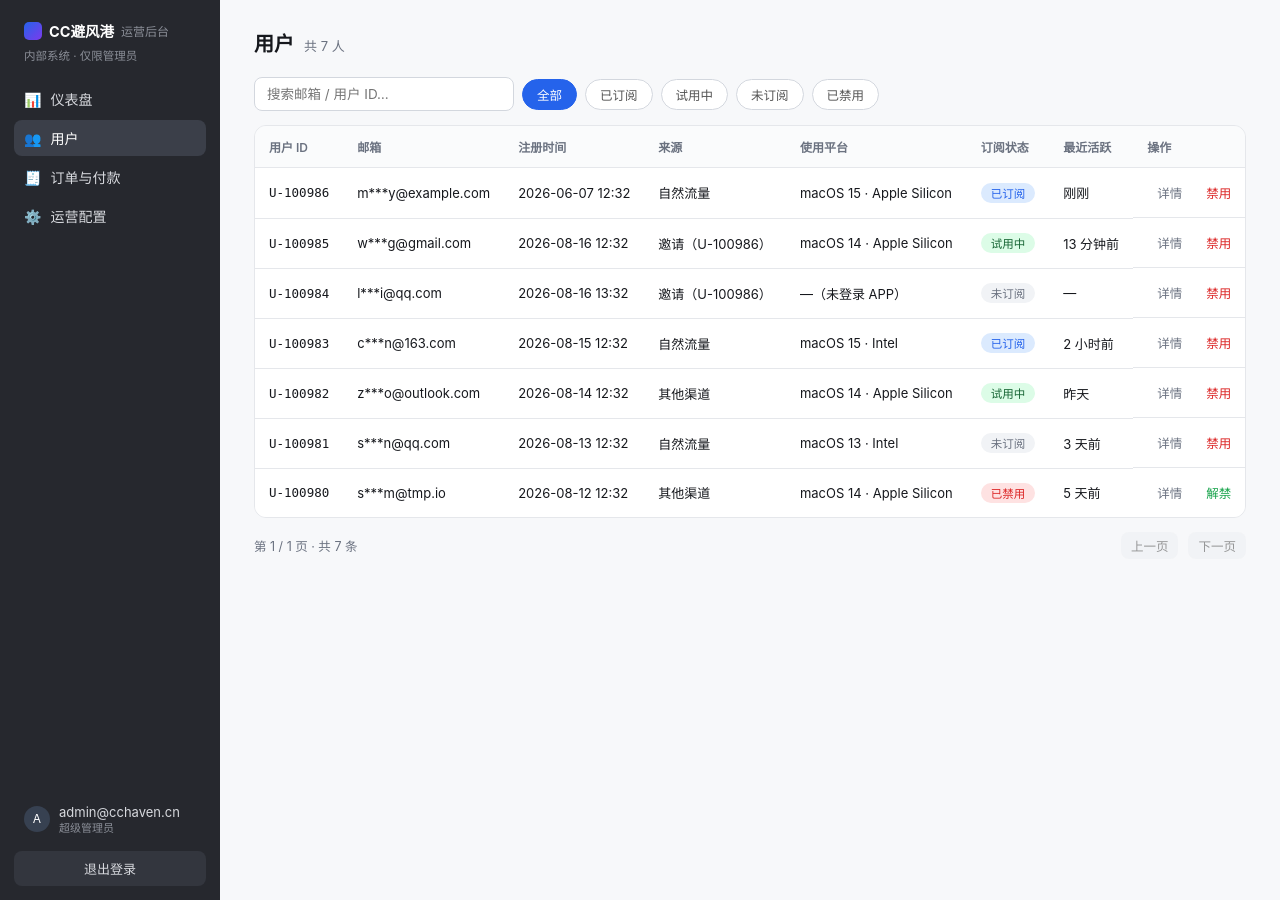
Test: 用户页 › 禁用需要二次确认，并明确「立即被登出」的后果
Expected: the cell "U-100986" is shown, [255,168,343,218]
Click the button "禁用" in the row of "m***y@example.com" at coordinates (1219, 192), box [1196,179,1241,206]
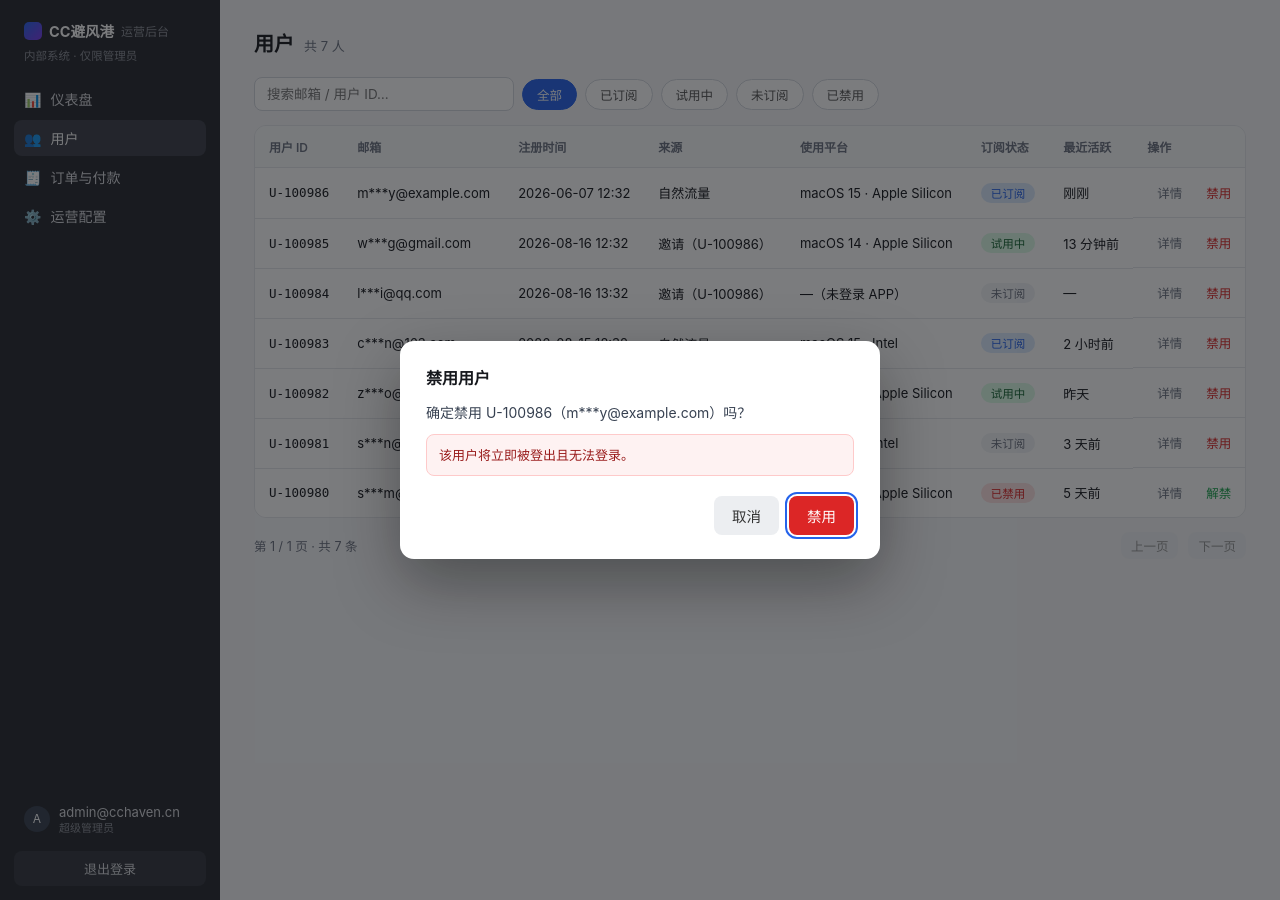
Expected: the text "确定禁用 U-100986（m***y@example.com）吗？ 该用户将立即被登出且无法登录。" is shown, [426,400,854,476]
Expected: the text "该用户将立即被登出且无法登录。" is shown, [426,434,854,476]
Click the button "禁用" at coordinates (822, 516), box [789,496,854,535]
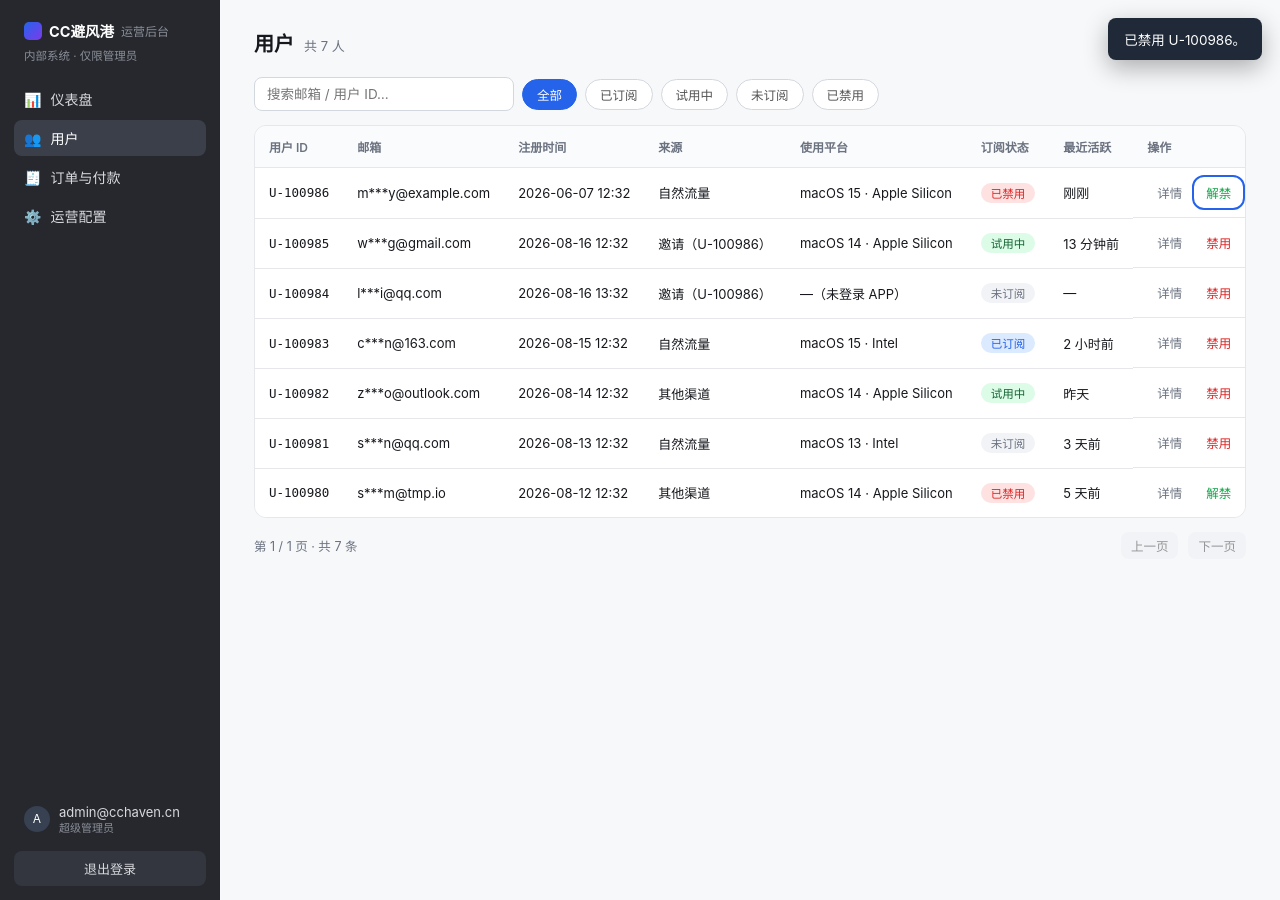
Expected: the text "已禁用 U-100986。" is shown, [1108,18,1262,60]
Expected: the text "已禁用" in the row of "m***y@example.com" is shown, [991,187,1025,201]
Expected: the button "解禁" in the row of "m***y@example.com" is shown, [1196,179,1241,206]
